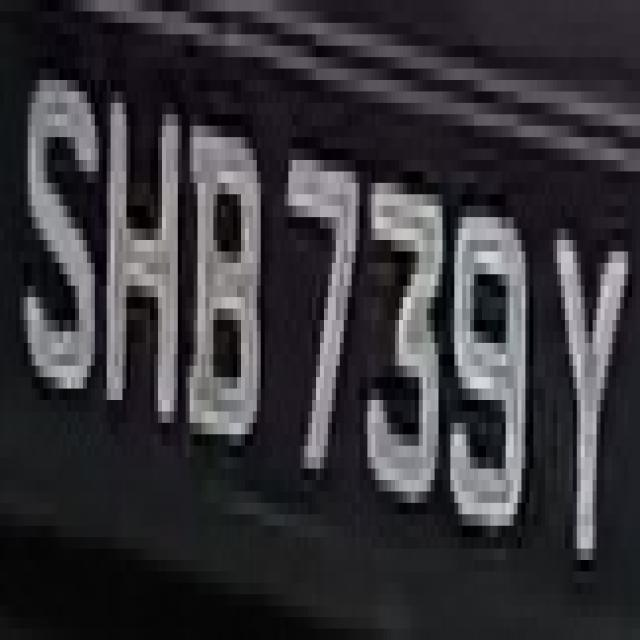3: (372, 137, 446, 594)
7: (280, 91, 360, 526)
9: (454, 148, 538, 572)
B: (178, 91, 264, 468)
H: (98, 57, 185, 423)
S: (8, 46, 107, 411)
Y: (545, 171, 640, 583)
